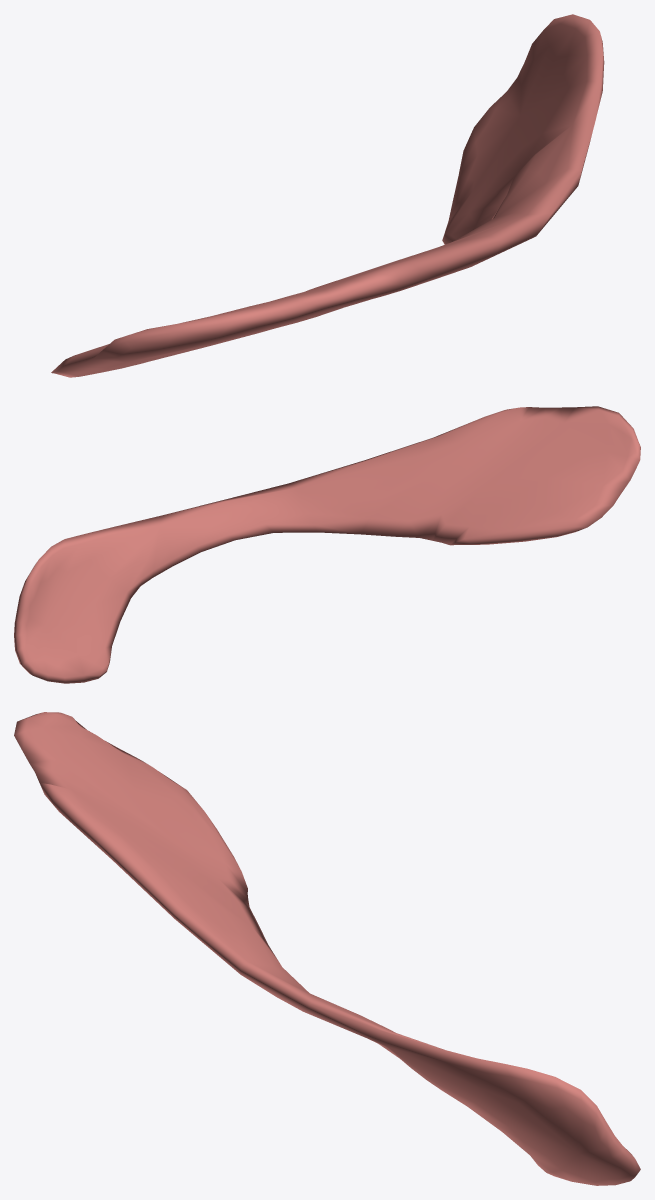
The picture shows the model from 3 angles, top to bottom: view 1: azimuth 30°, elevation 25°; view 2: azimuth 150°, elevation 25°; view 3: azimuth 270°, elevation 25°; orthographic projection. The views are drawn at different scales.
Visible parts, largest first — view 1: ZA_95b3f1a0685c5c39; view 2: ZA_95b3f1a0685c5c39; view 3: ZA_95b3f1a0685c5c39.
Part boxes in pixels (left/top/right/bottom): ZA_95b3f1a0685c5c39: left=51, top=14, right=604, bottom=377; ZA_95b3f1a0685c5c39: left=14, top=406, right=640, bottom=683; ZA_95b3f1a0685c5c39: left=14, top=712, right=640, bottom=1185.
Size of the model in its own units: 0.0168 by 0.00733 by 0.0164.
